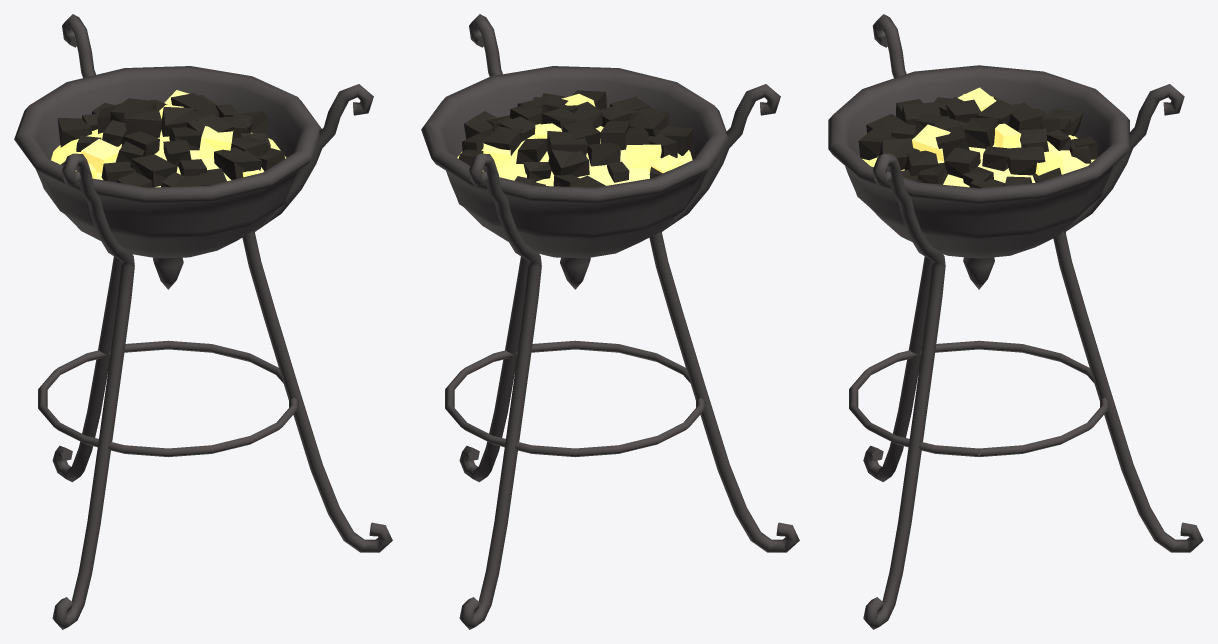
File: brazier.glb
3 renders of one model, left to right at view 1: azimuth 30°, elevation 25°; view 2: azimuth 150°, elevation 25°; view 3: azimuth 270°, elevation 25°, orthographic.
Visible parts, largest first — view 1: brazier; view 2: brazier; view 3: brazier.
Part boxes in pixels (box(x1,y1,x2,y2)): brazier: box(14, 14, 392, 629); brazier: box(421, 14, 799, 629); brazier: box(828, 14, 1203, 629).
Size of the model in its own units: 0.9709 by 1.29 by 0.9369.
